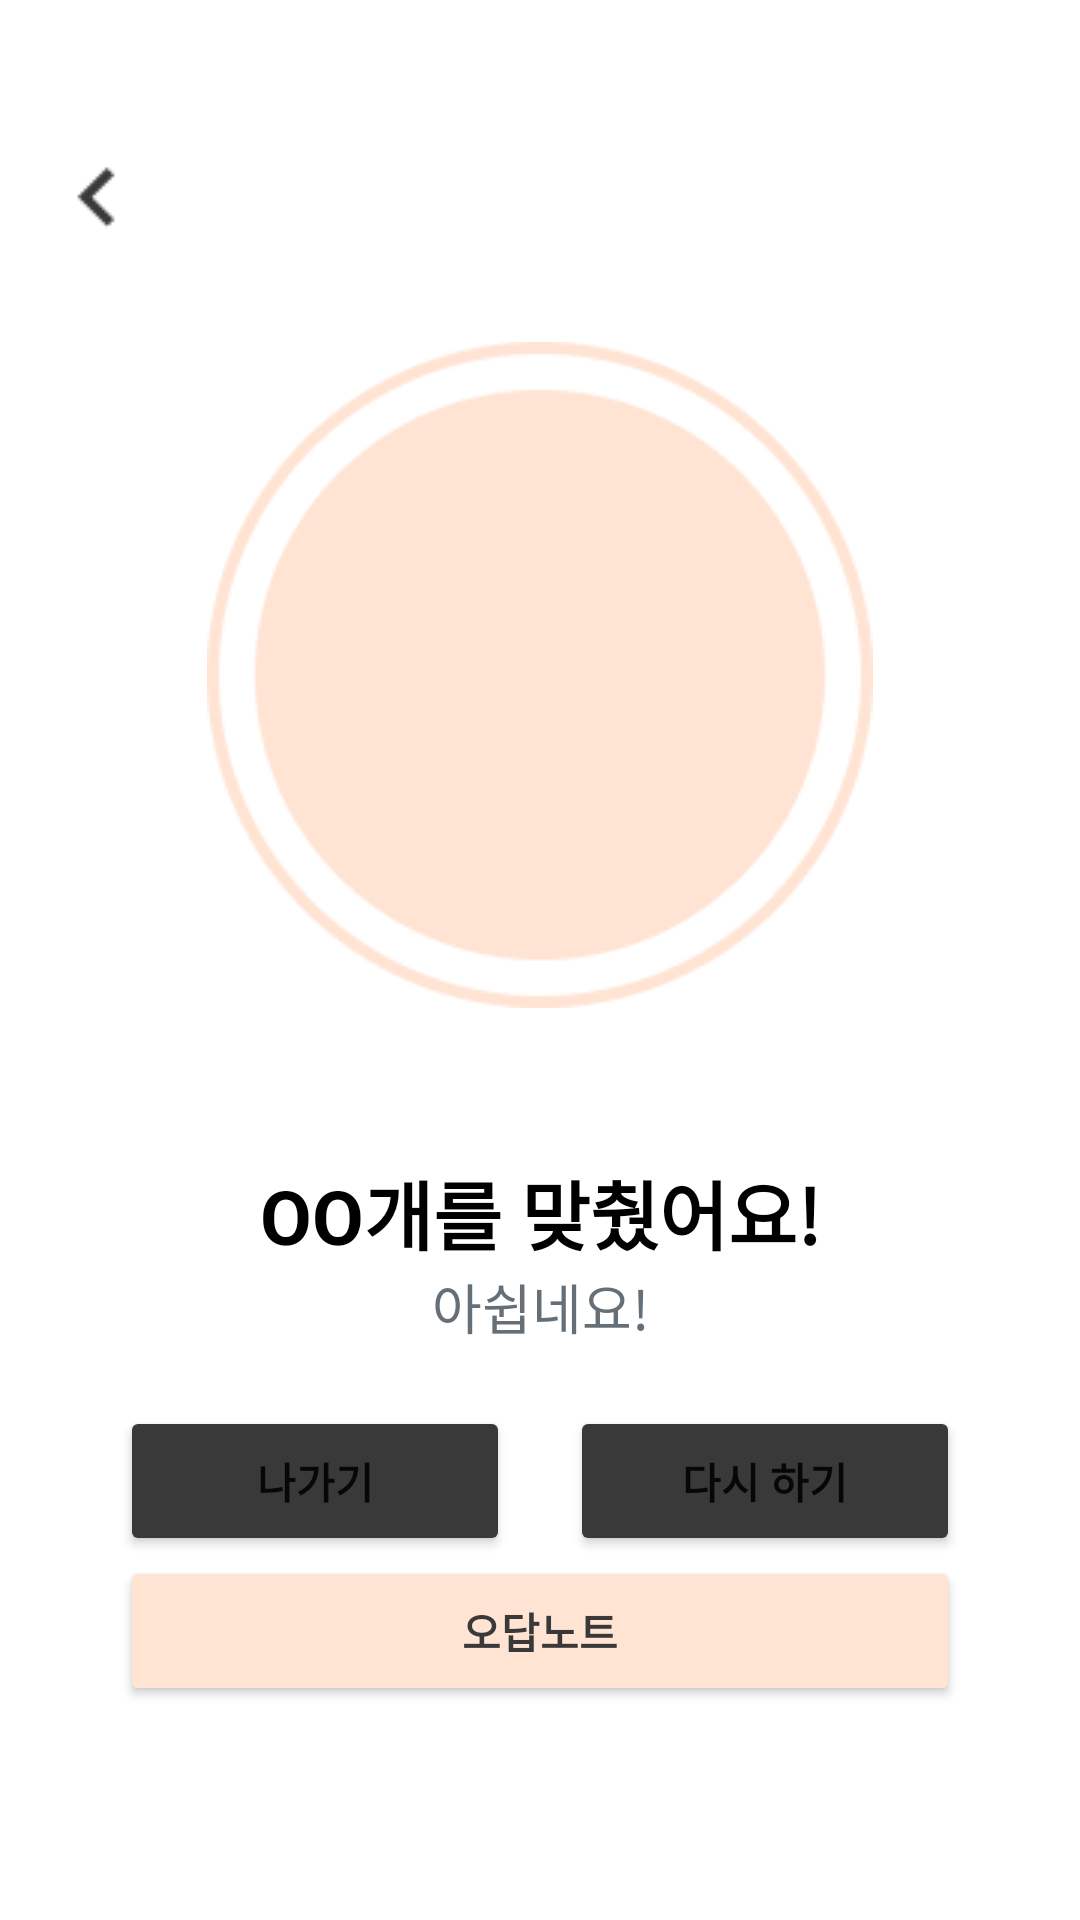

Locate icon controls on the screen. Image size 1080x1920, boxes as (x1,y1,x2,y2).
left arrow: (77,167,115,227)
